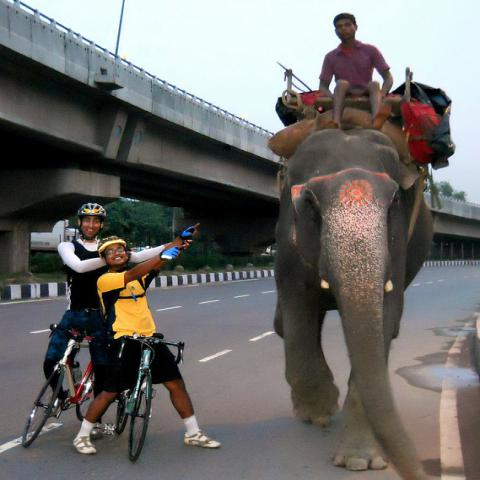truck: (29, 220, 80, 253)
